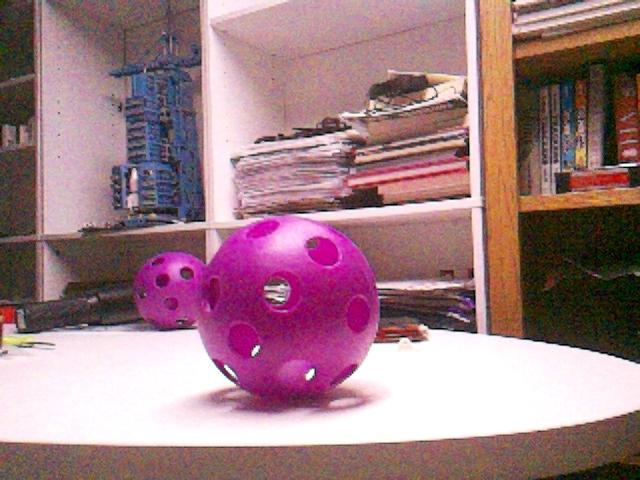Purple: (196, 216, 379, 398), (131, 251, 207, 331)
